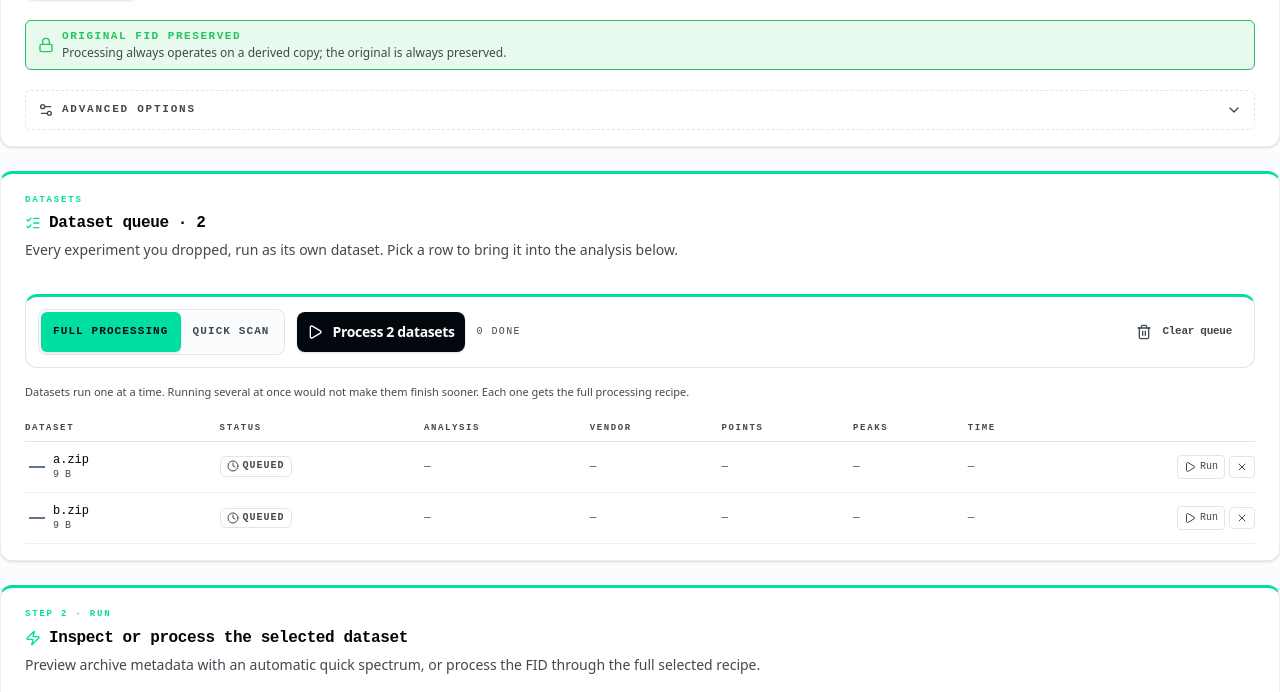
Test: running the queue › analyzes every dataset, ONE AT A TIME
The width and height of the screenshot is (1280, 692).
Earlier steps of the test are not shown.
(page scrolled)
Click the button with test id "raw-fid-queue-run-all": click(381, 332) [296,312,465,352]
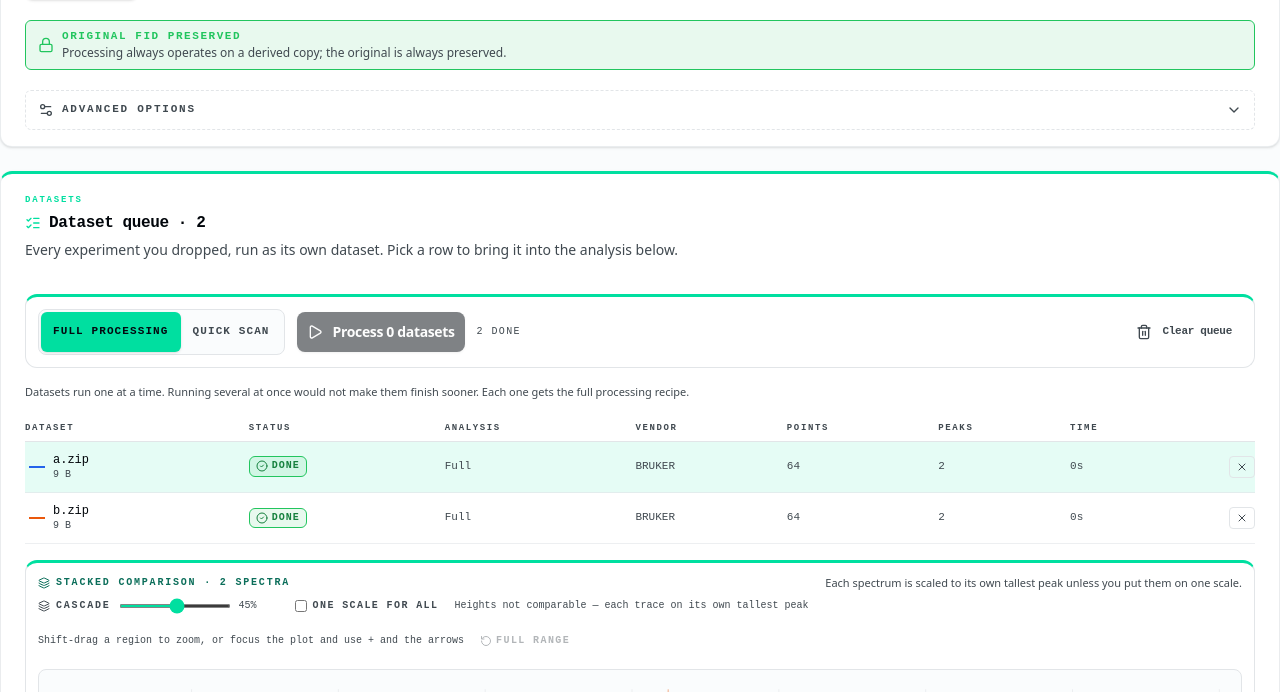
Result: the text "Done" is shown 2 times at [249,456,307,477]; [249,508,307,528]
